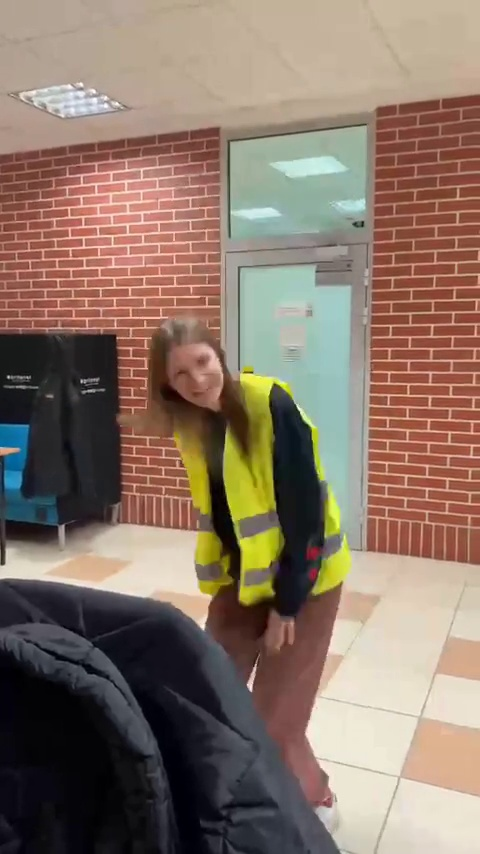vest: (142, 299, 363, 812)
